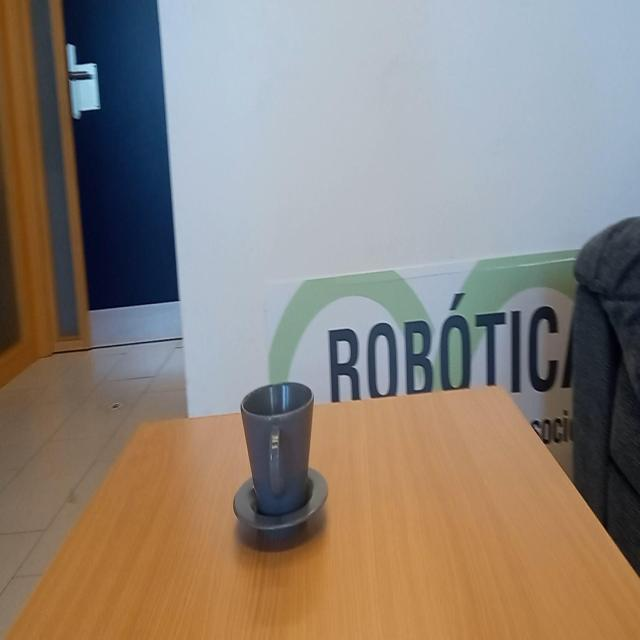cup: (239, 380, 317, 530)
